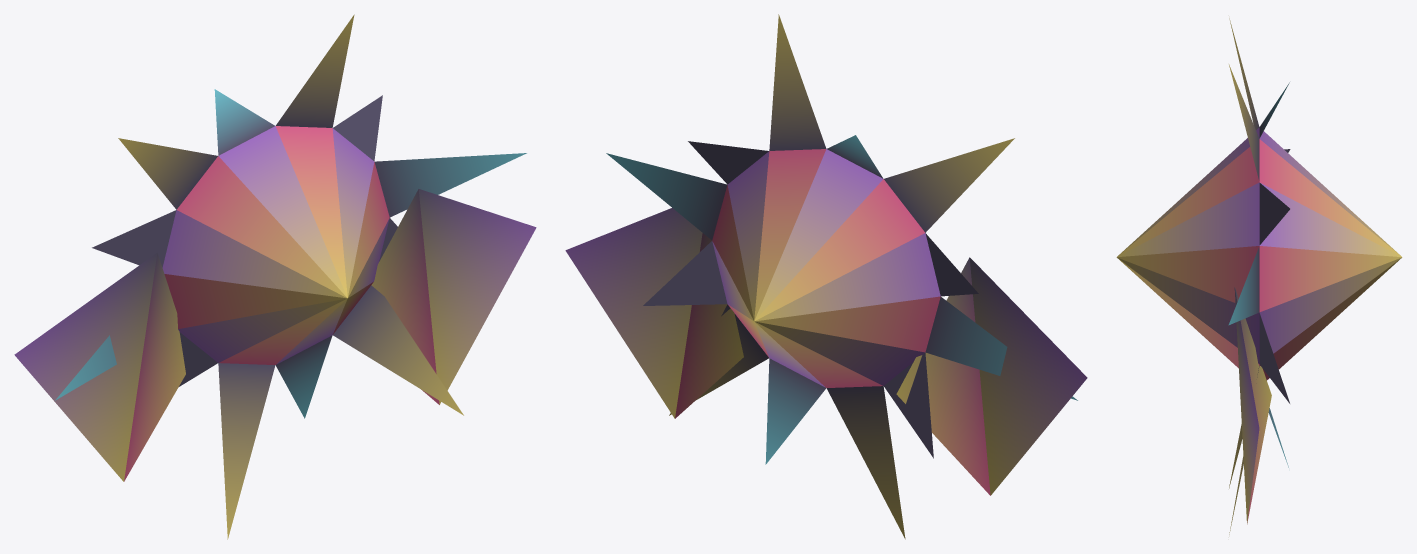
File: sector_boss.glb
3 renders of one model, left to right at view 1: azimuth 30°, elevation 25°; view 2: azimuth 150°, elevation 25°; view 3: azimuth 270°, elevation 25°, orthographic.
Size of the model in its own units: 9.6 by 8.69 by 4.6.
